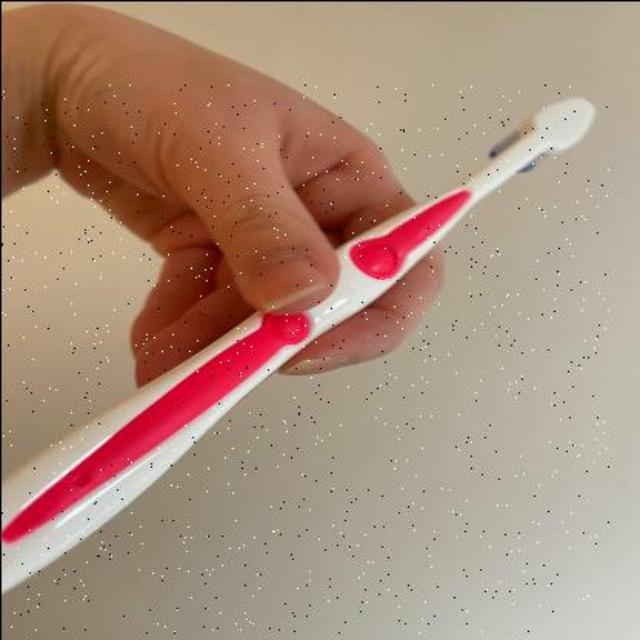toothbrush: (0, 83, 608, 632)
